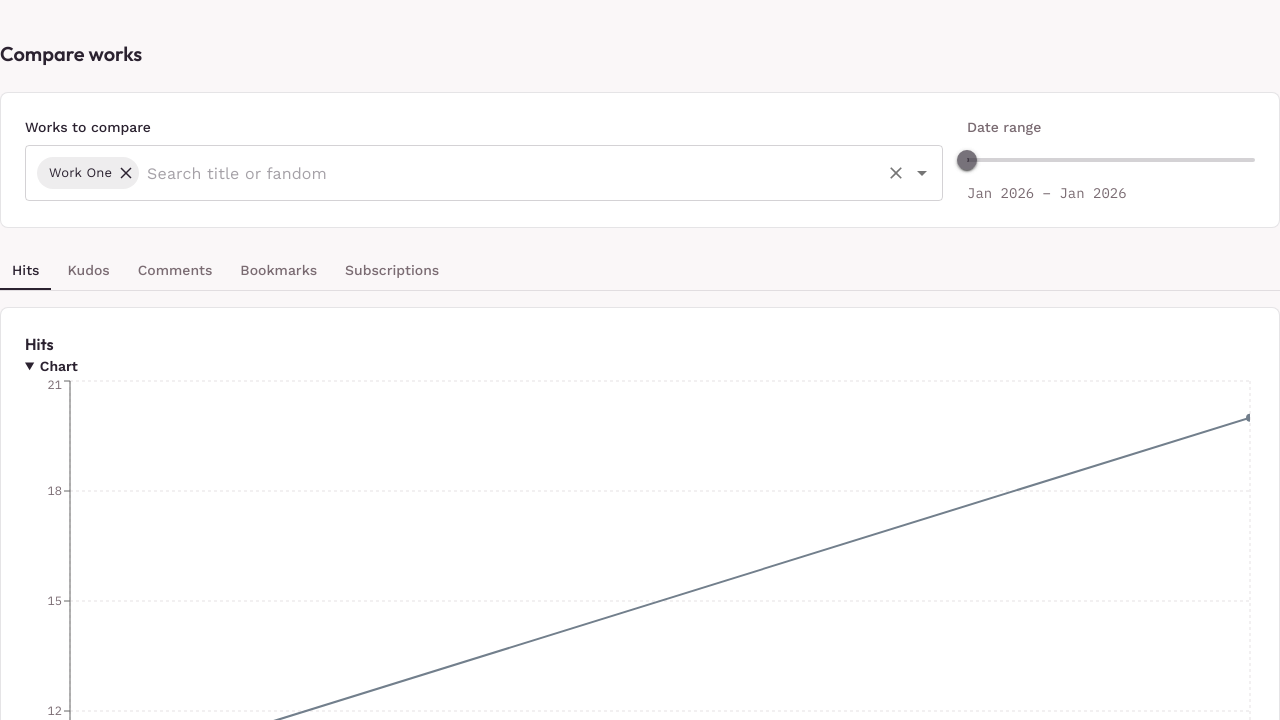
Test: WorkComparisonSection › 0 works selected › shows the empty-selection message in place of chart content once the only work is deselected
The width and height of the screenshot is (1280, 720).
Click the dropdown labelled "Works to compare": x=510, y=173 [142, 154, 878, 192]
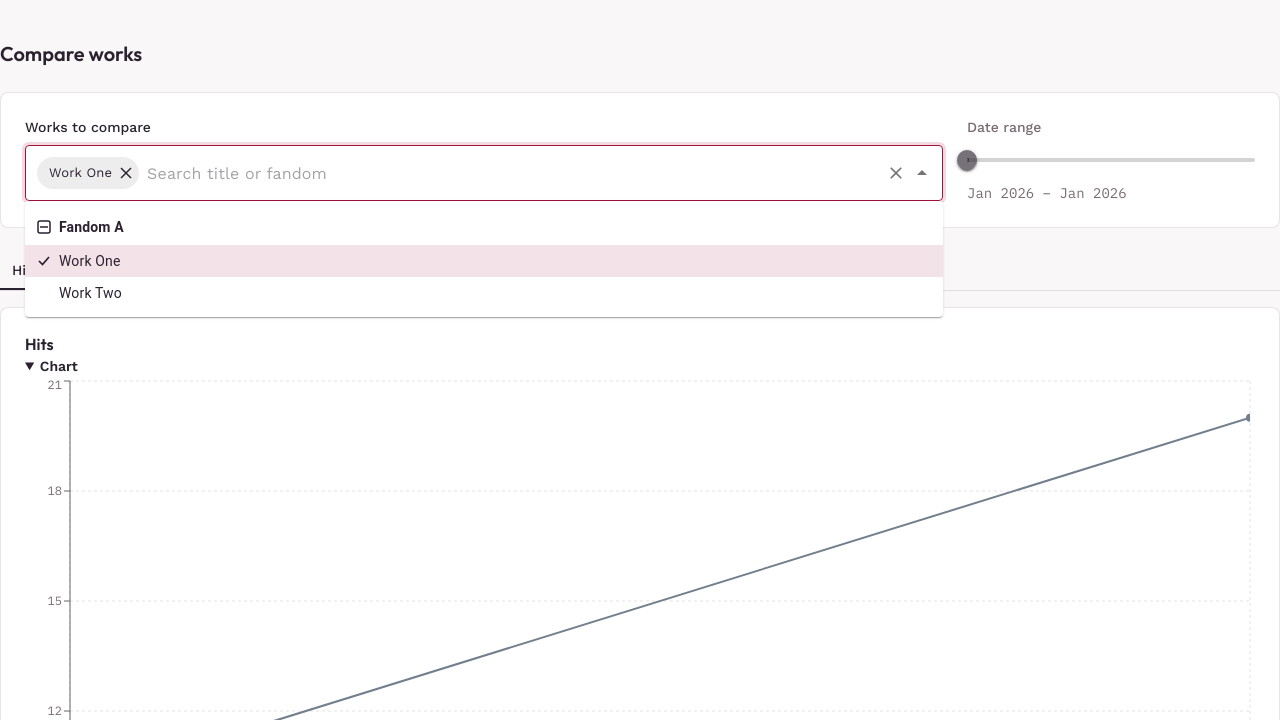
Click the option "Work One": x=90, y=261 [25, 245, 943, 277]
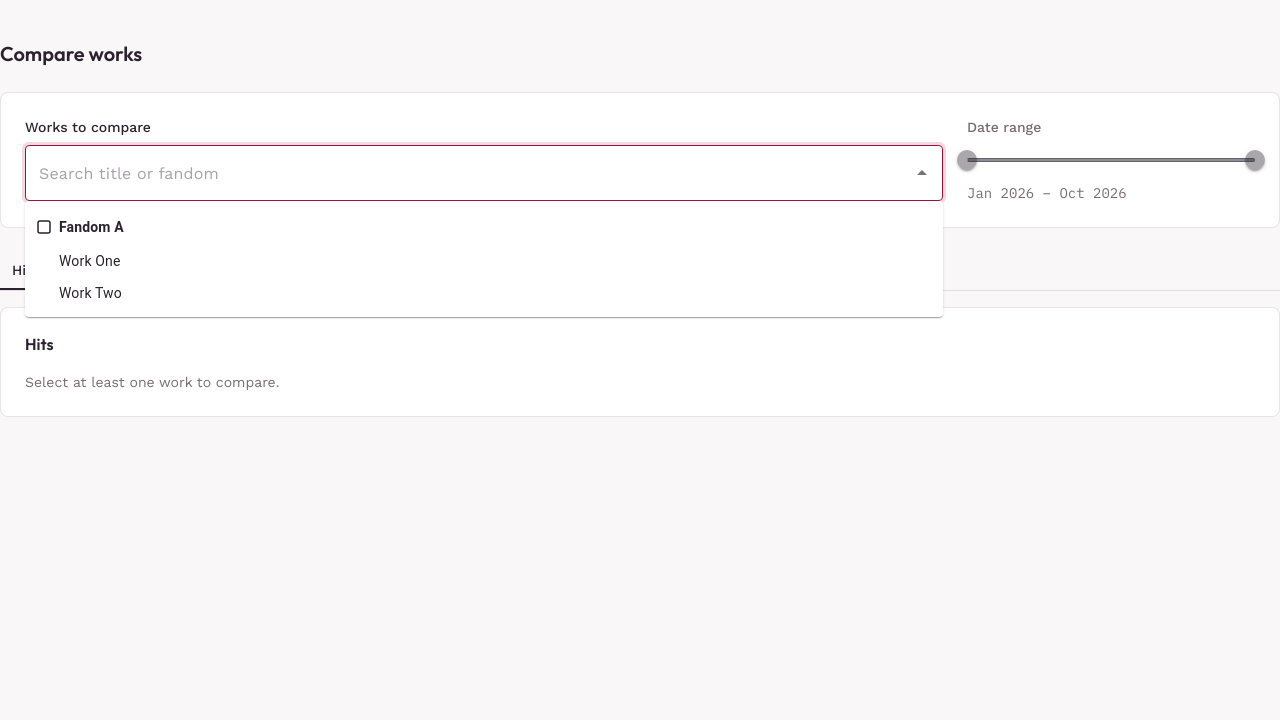
Expected: the text "Select at least one work to compare." is shown, [25, 374, 279, 390]
